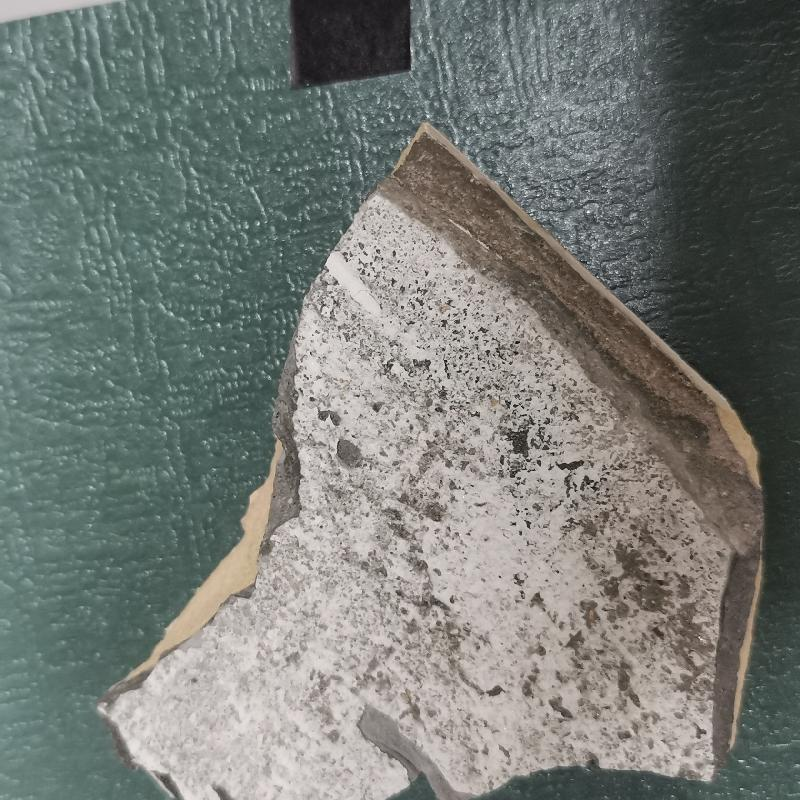tile: (93, 119, 773, 800)
